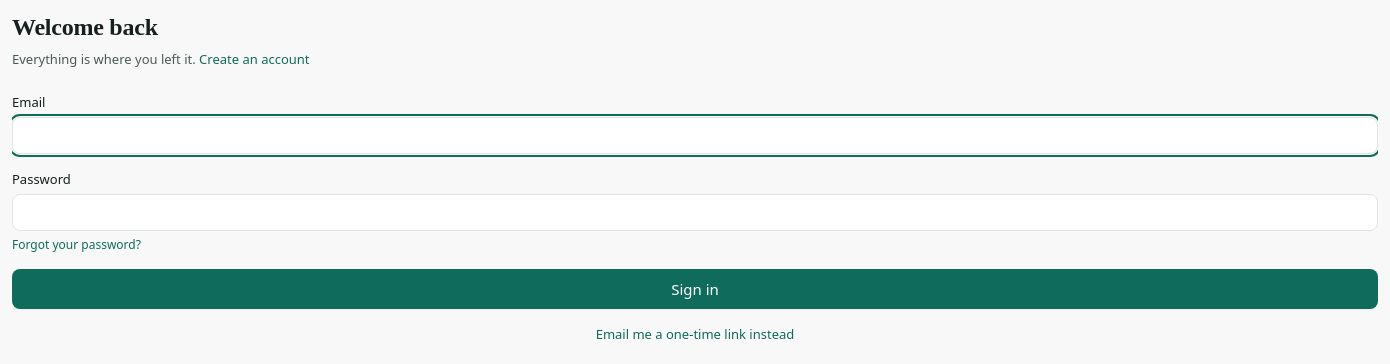
Test: P0-06 Test C · a failure is never dressed as a sent email › clears the failure when the user switches back to the password path
Step 1. Click the button "Email me a one-time link instead" → (695, 334), box [596,325,794,343]
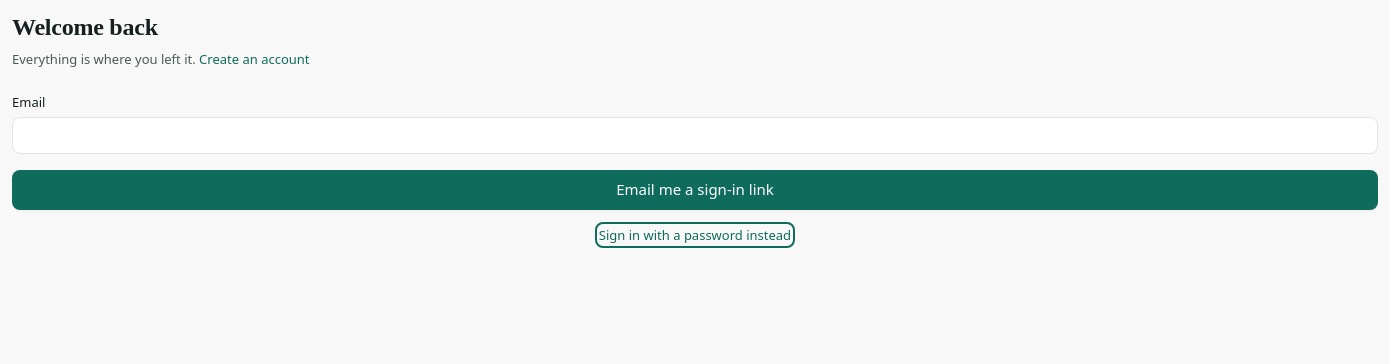
Step 2. Type "someone@example.test" into the field labelled "Email" → (695, 135), box [12,117,1378,154]
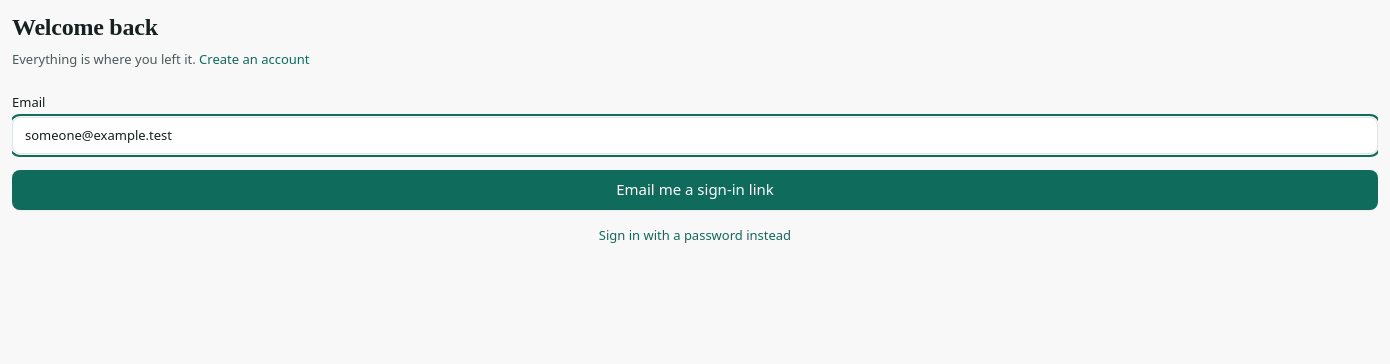
Step 3. Click the button "Email me a sign-in link" → (695, 190), box [12,170,1378,210]
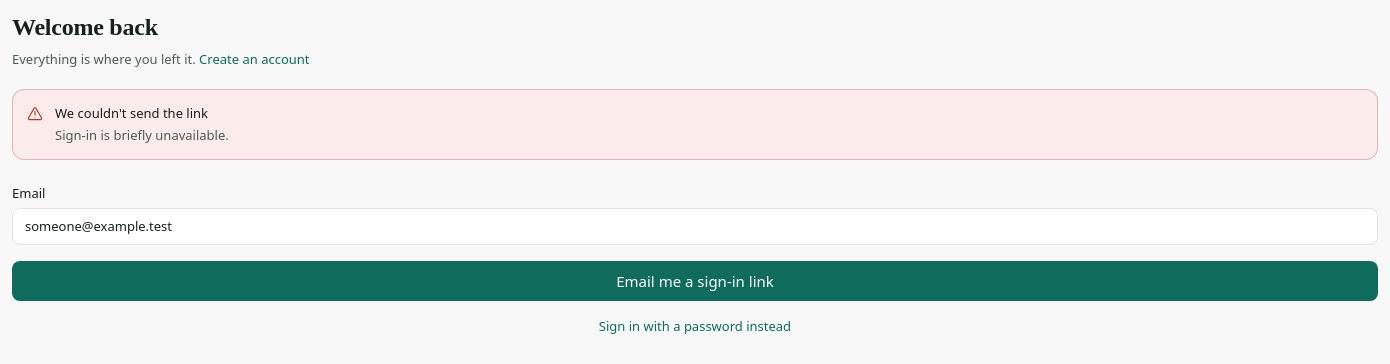
Now the text "We couldn't send the link" is shown, box [55,104,208,122]
Step 4. Click the button "Sign in with a password instead" → (695, 326), box [599,317,791,335]
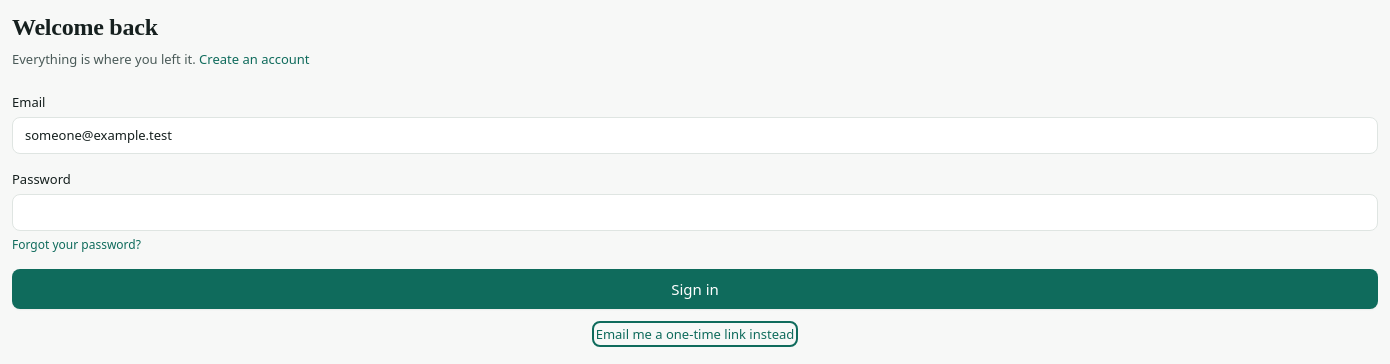
Now the text "We couldn't send the link" is gone
